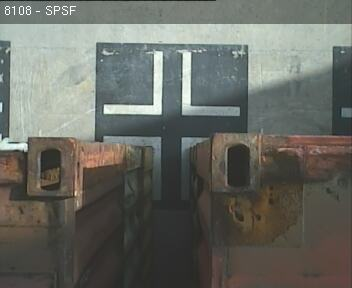groundmarker_1: (103, 50, 240, 117), (103, 137, 208, 198)
